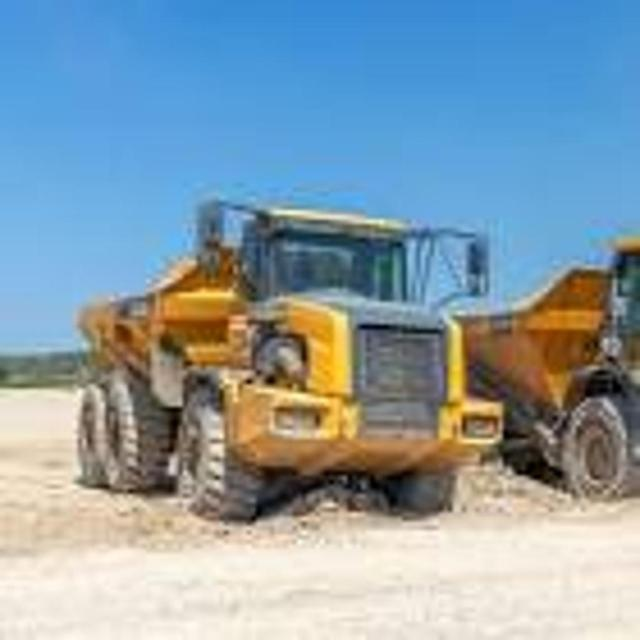dump_truck: (75, 186, 489, 520), (475, 211, 640, 533)
